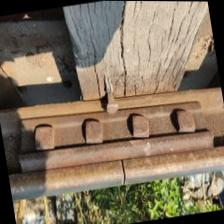person: (99, 149, 150, 198)
